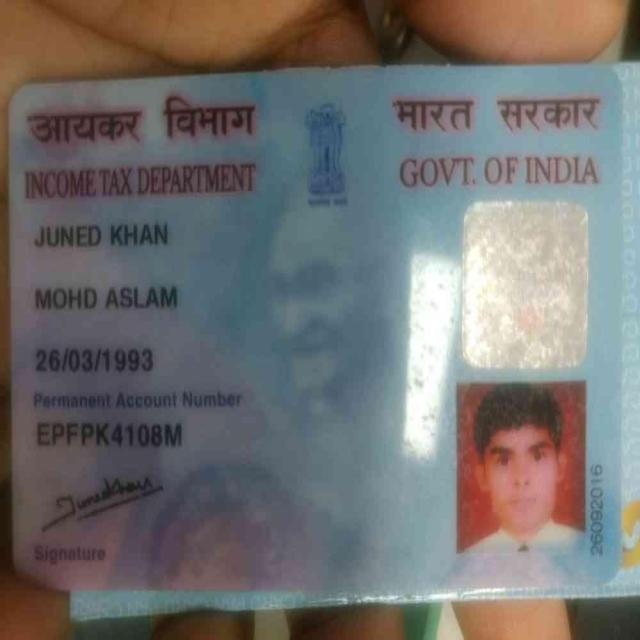pan_card: (11, 71, 616, 586)
